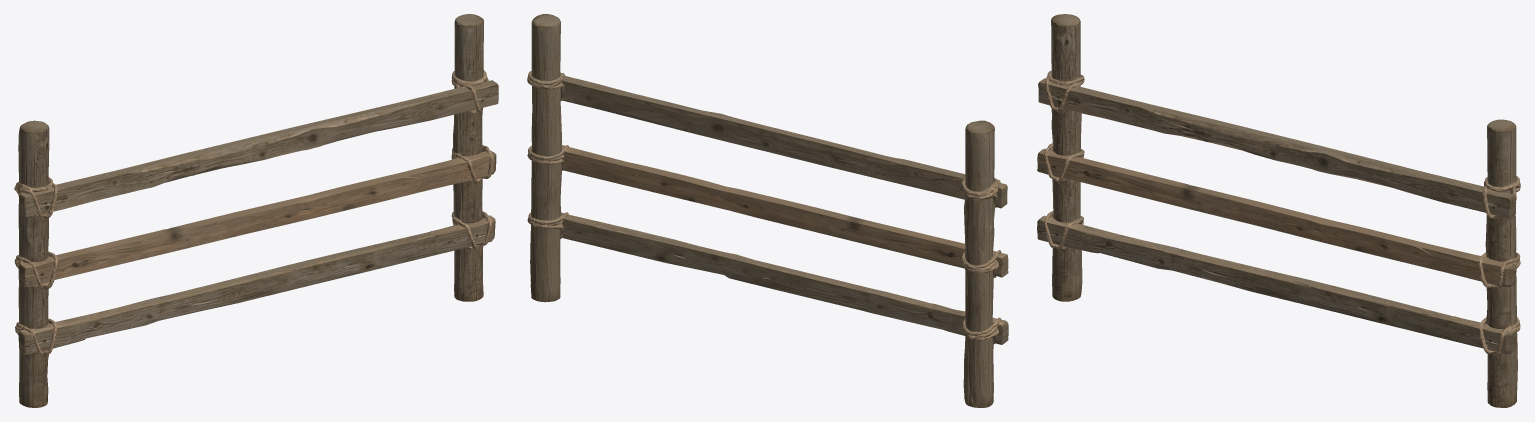
The model's file is Rustic_Wooden_Fence.glb.
The picture shows the model from 3 angles, left to right: view 1: azimuth 30°, elevation 25°; view 2: azimuth 150°, elevation 25°; view 3: azimuth 330°, elevation 25°; orthographic projection.
Visible parts, largest first — view 1: output_unwrapped; view 2: output_unwrapped; view 3: output_unwrapped.
Boxes of the visible parts, <box> form: output_unwrapped: <box>14,14,498,407</box>; output_unwrapped: <box>527,14,1008,407</box>; output_unwrapped: <box>1037,14,1520,407</box>.
Bounding box in the file's own units: 1.9 × 1.07 × 0.1528.
1 material, 1 textured.
